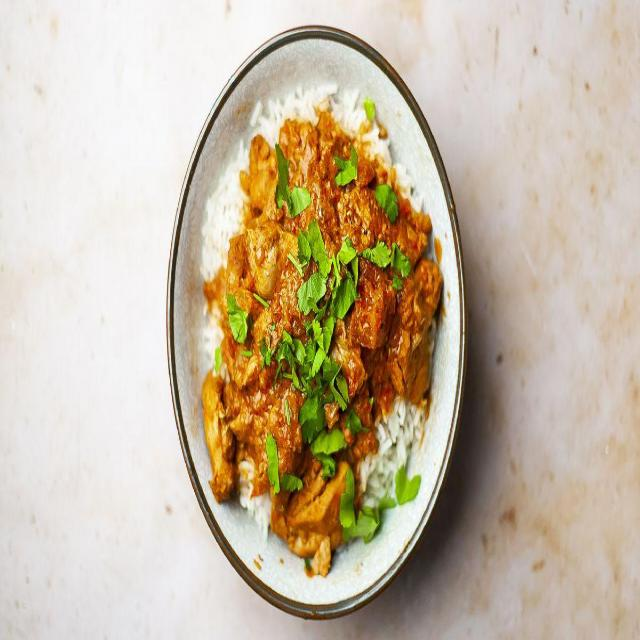chicken: (222, 143, 409, 488)
